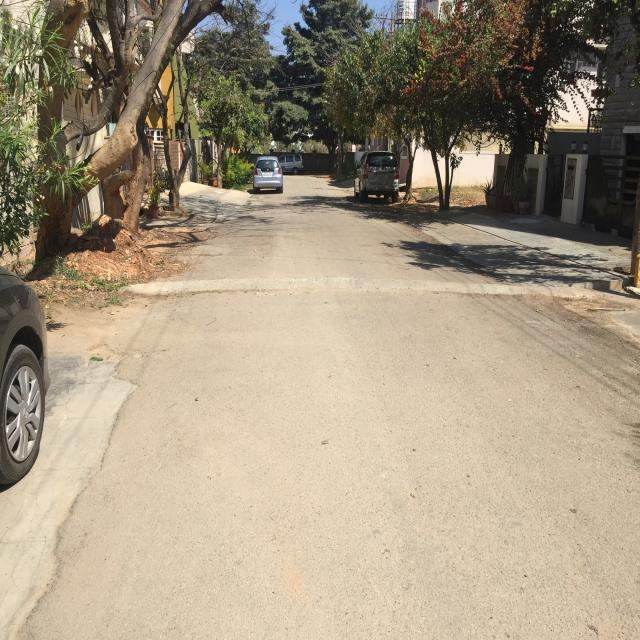Speed_Breaker: (103, 275, 613, 305), (120, 277, 593, 295)
